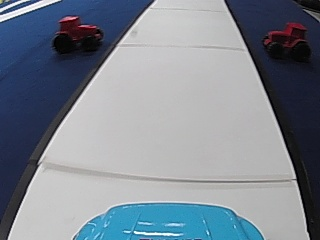tractor: (261, 20, 311, 62), (51, 13, 102, 54)
